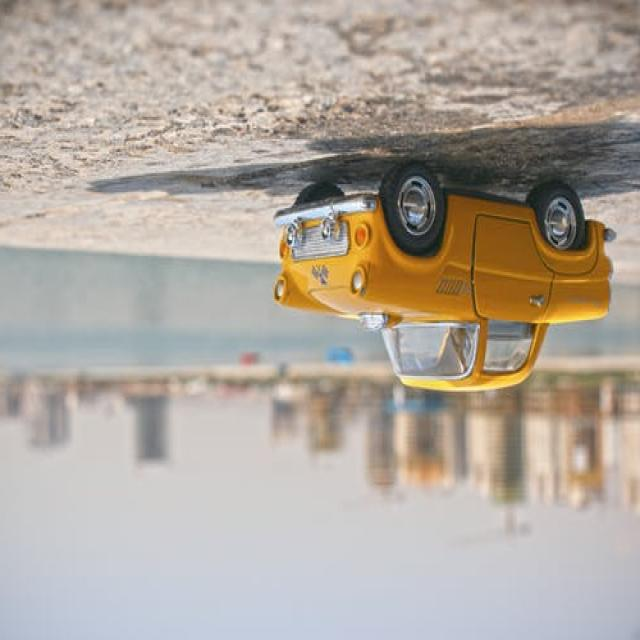Car: (273, 162, 617, 394)
